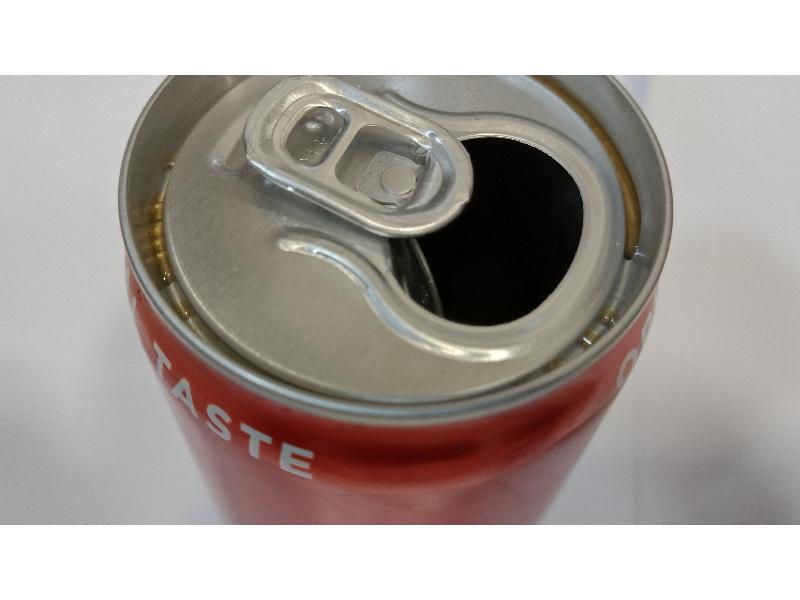can: (113, 75, 680, 516)
